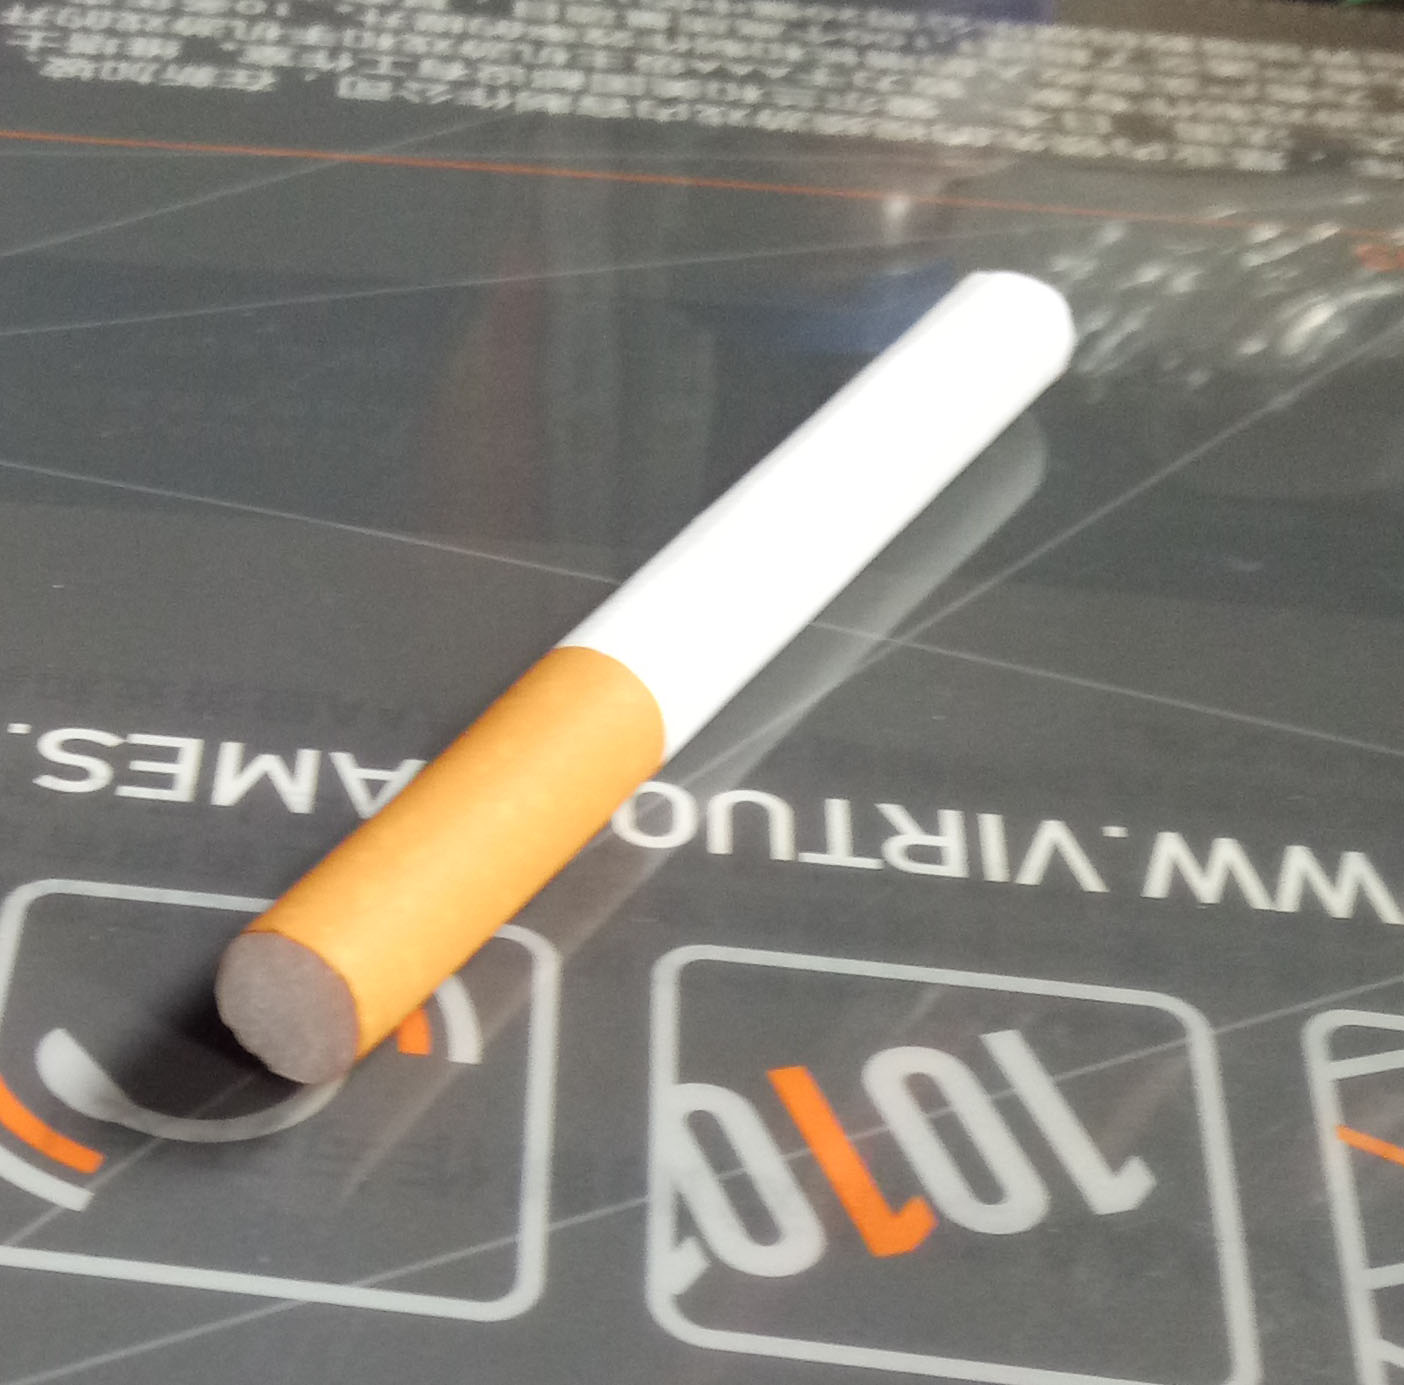cigarette: (200, 233, 1097, 1105)
